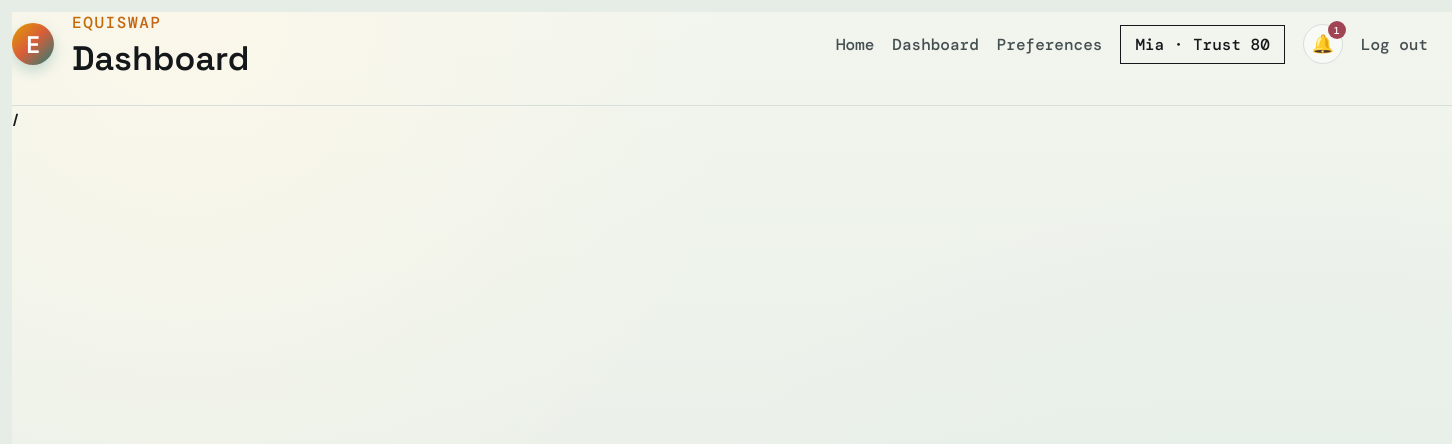
Test: TopNav › opens the related swap conversation from a message notification
Click the button named "Notifications": [1323, 44] box [1303,24,1343,64]
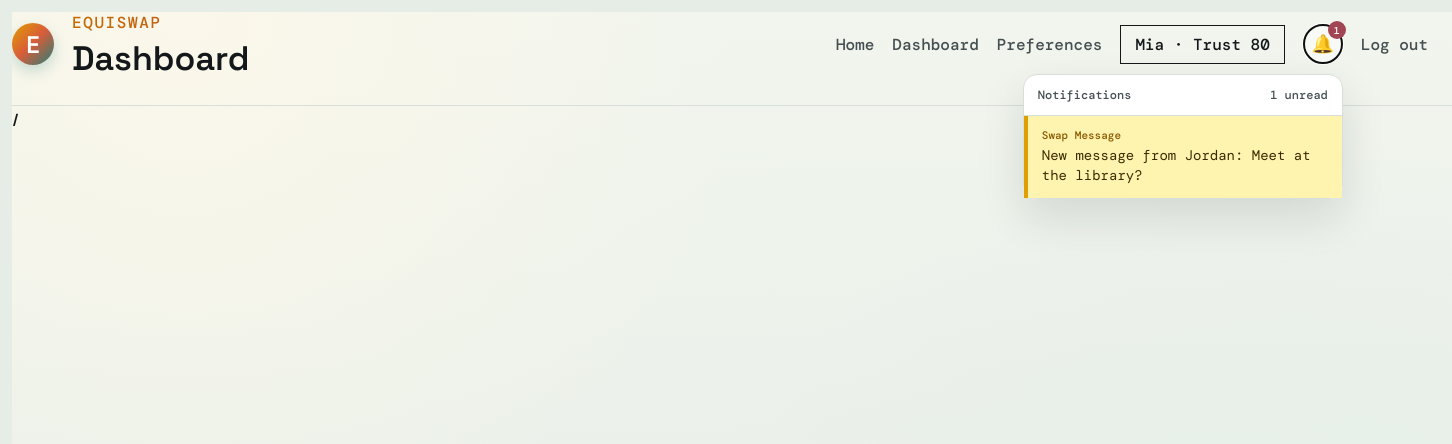
Click the text "New message from Jordan: Meet at the library?": [1185, 166] box [1042,146,1328,186]
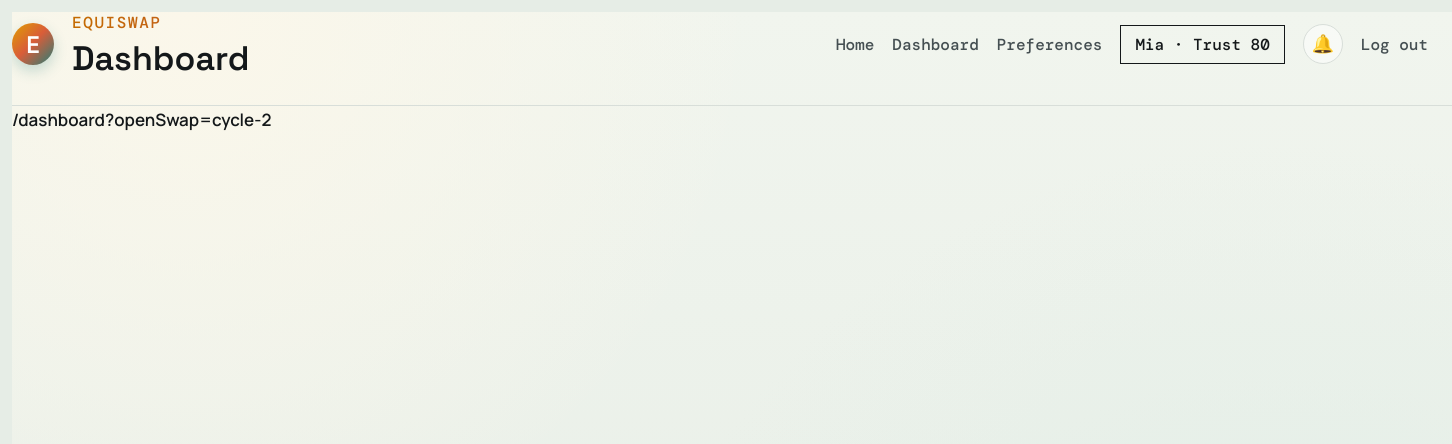
Result: the text with test id "current-location" reads "/dashboard?openSwap=cycle-2" at [12,108,271,131]
